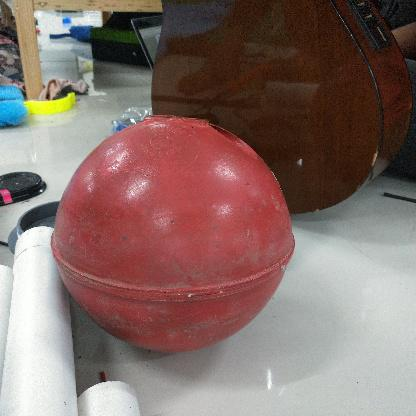red_buoy: (49, 112, 296, 353)
